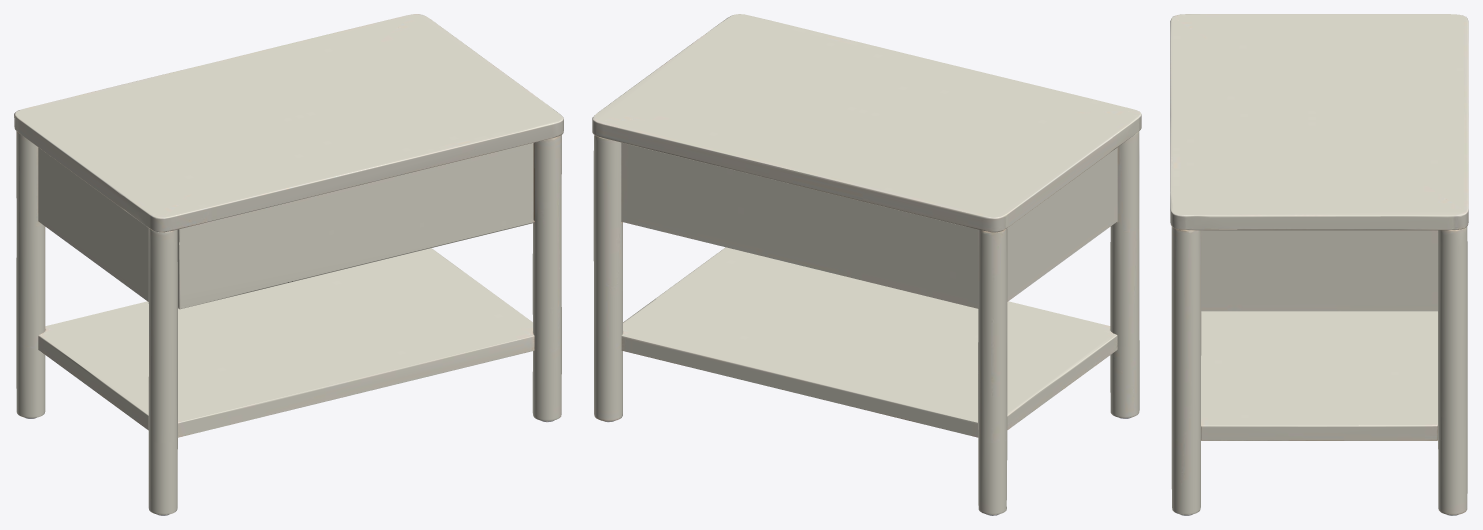
3 renders of one model, left to right at view 1: azimuth 30°, elevation 25°; view 2: azimuth 150°, elevation 25°; view 3: azimuth 270°, elevation 25°, orthographic.
Visible parts, largest first — view 1: ASY_ART_20528473_S01_NV01, ASY_LPT01_20528473_S01_NV01; view 2: ASY_ART_20528473_S01_NV01; view 3: ASY_ART_20528473_S01_NV01.
Boxes of the visible parts, left/top/right/bottom form: ASY_ART_20528473_S01_NV01: left=14, top=14, right=563, bottom=515; ASY_LPT01_20528473_S01_NV01: left=177, top=143, right=533, bottom=309; ASY_ART_20528473_S01_NV01: left=592, top=14, right=1141, bottom=515; ASY_ART_20528473_S01_NV01: left=1170, top=14, right=1468, bottom=515.
Size of the model in its own units: 0.6431 by 0.45 by 0.401.
2 materials, 2 textured.
